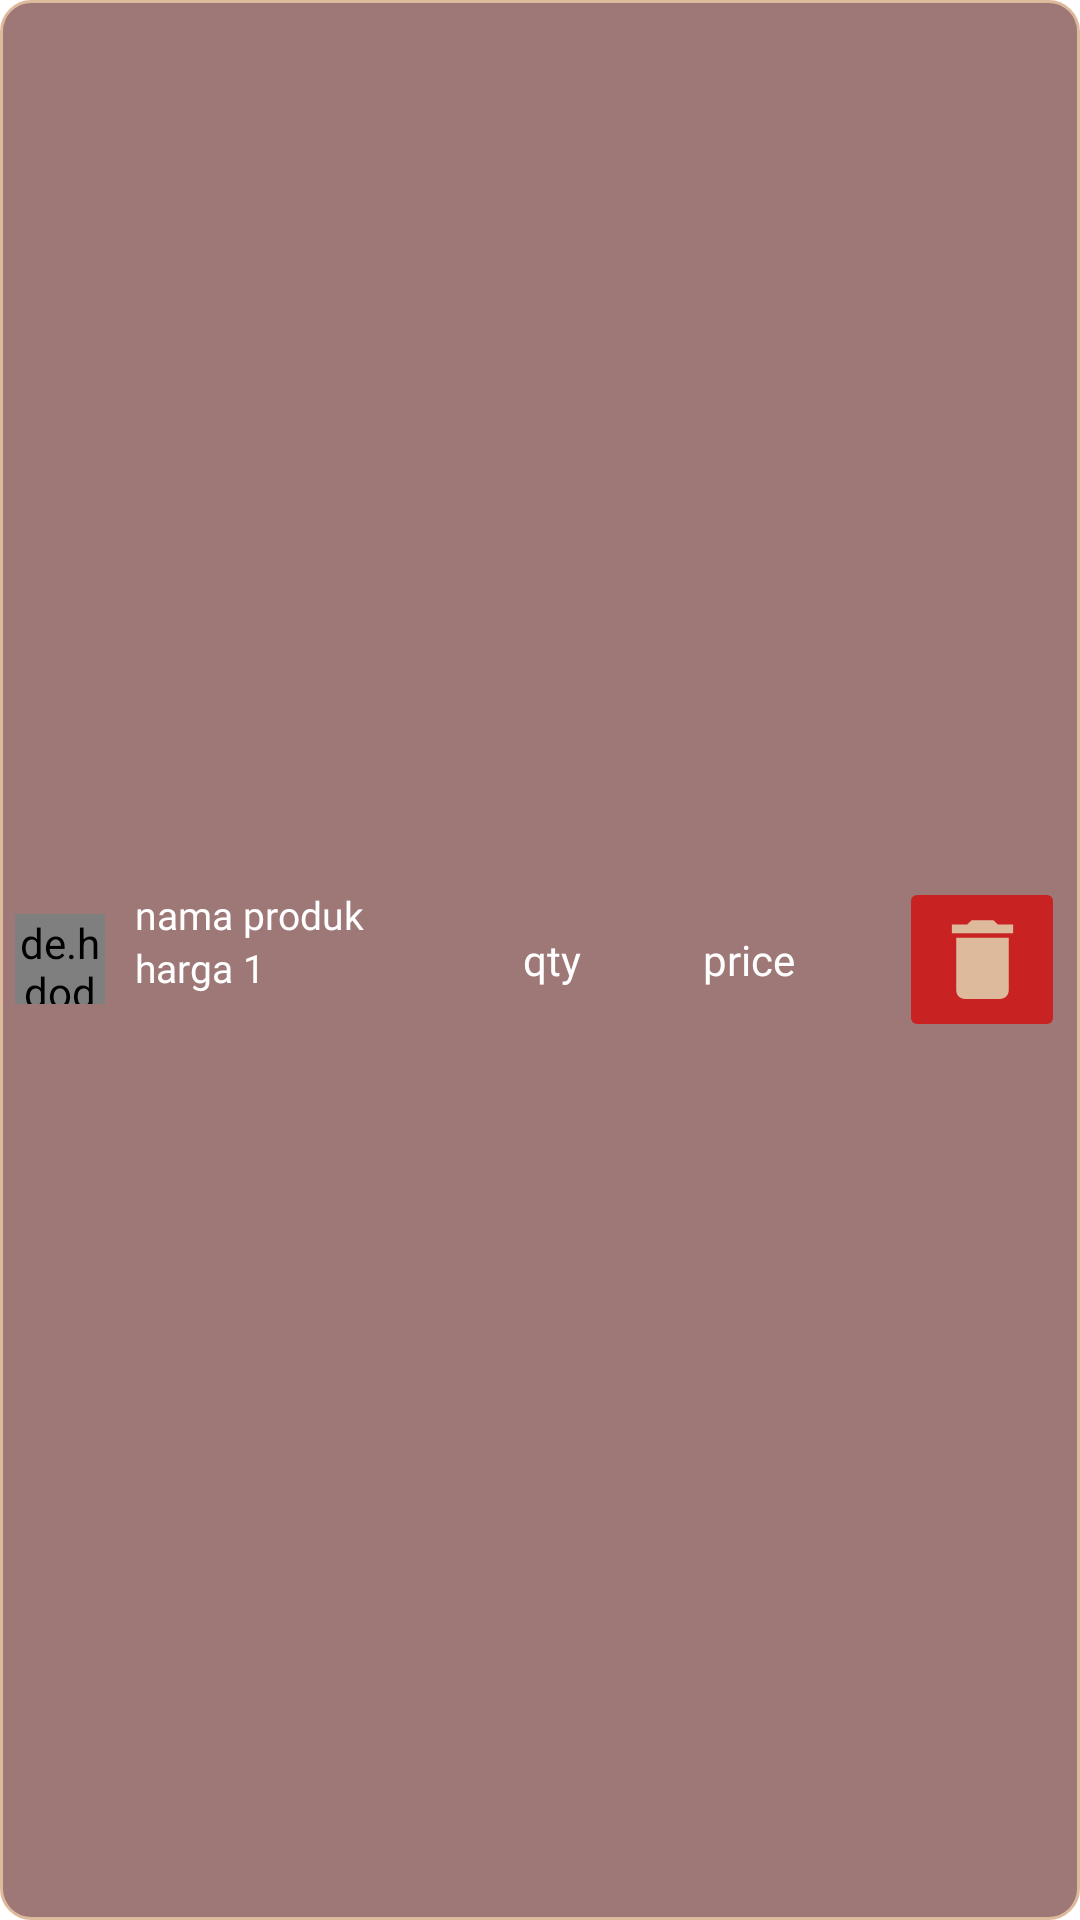

Icon bounding boxes for this 1080px x 1920px phone screenshot, format (x1, y1, x2, y2):
delete: (911, 895, 1053, 1024)
